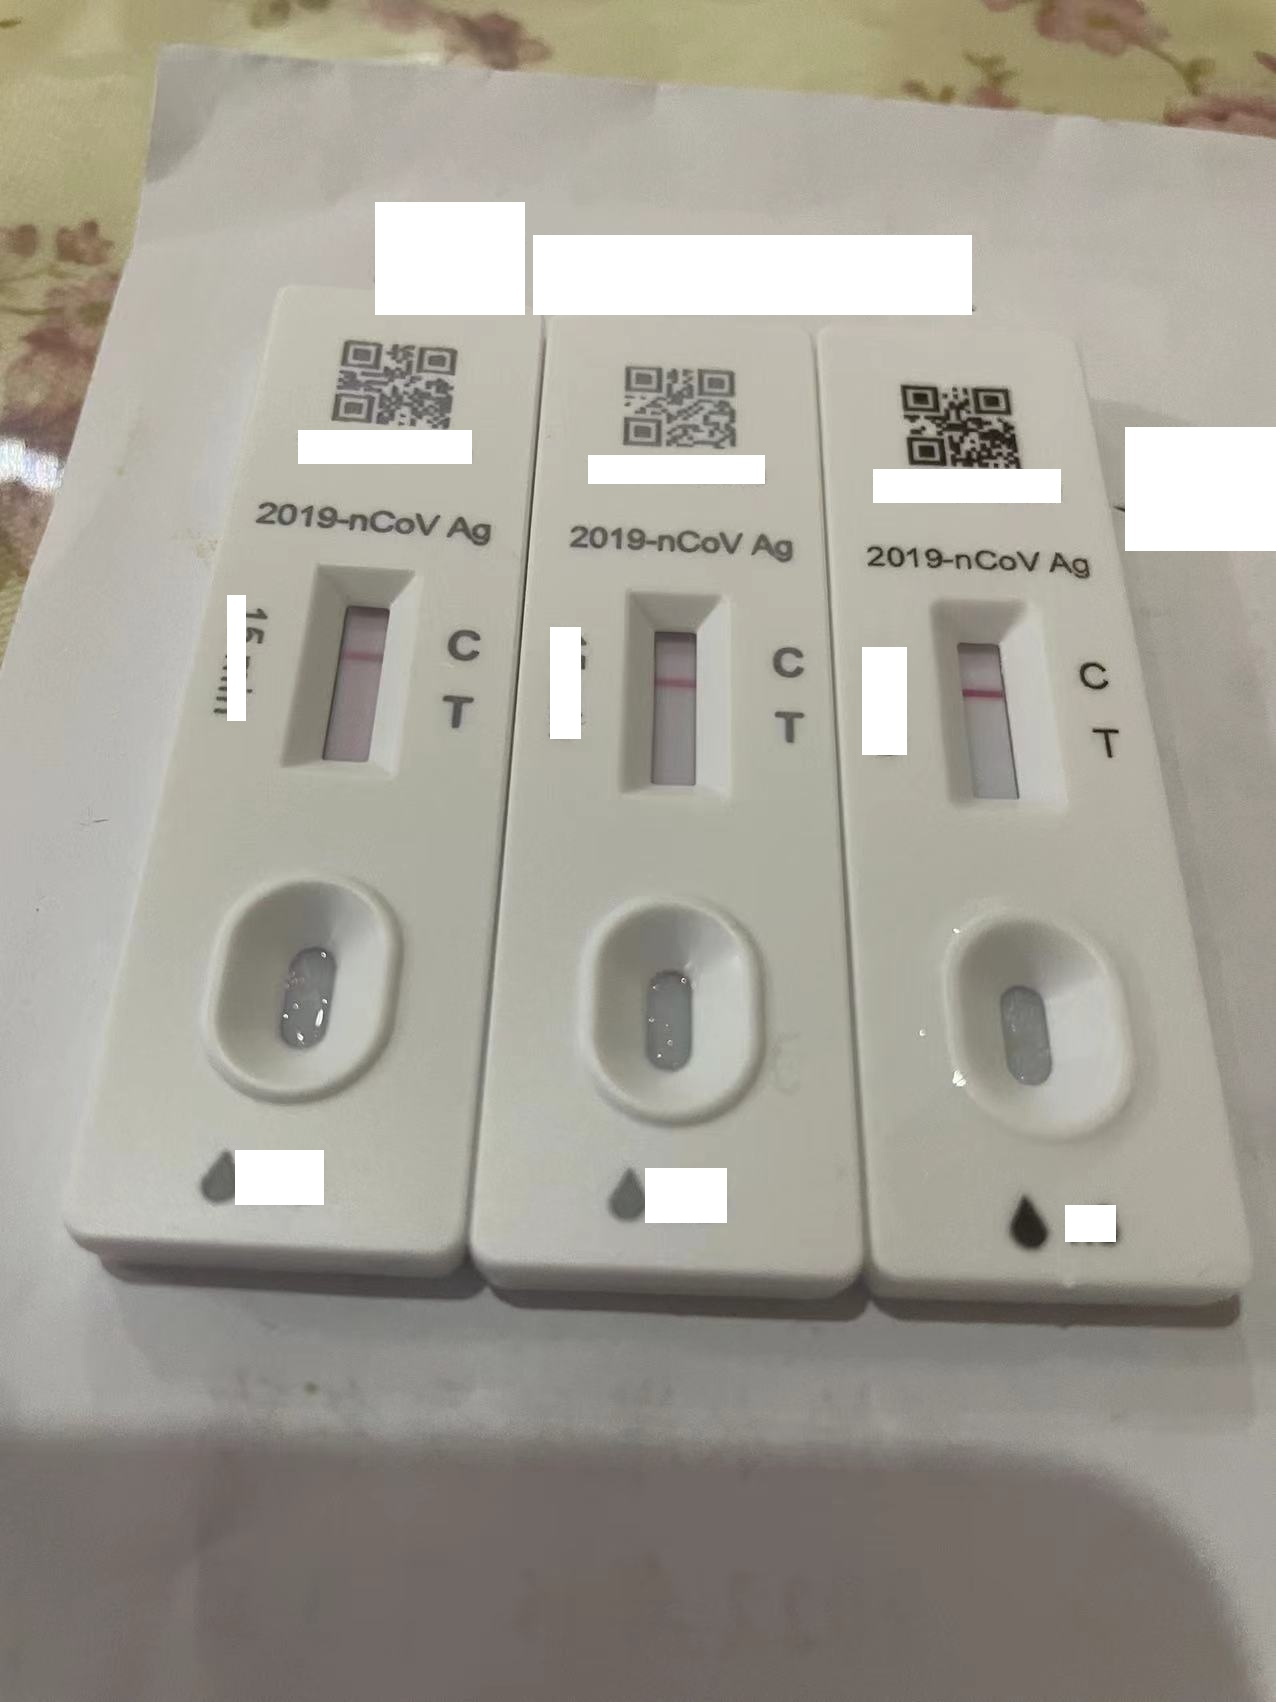negative: (933, 592, 1047, 809), (299, 564, 410, 779), (625, 586, 720, 793)
